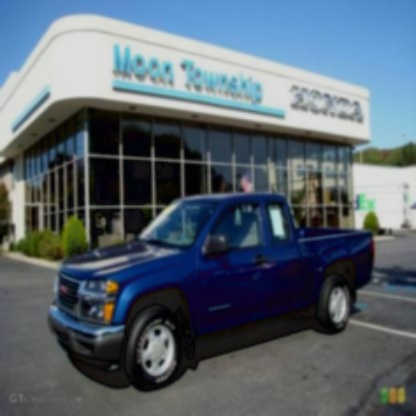Vehicle: (48, 193, 376, 393)
